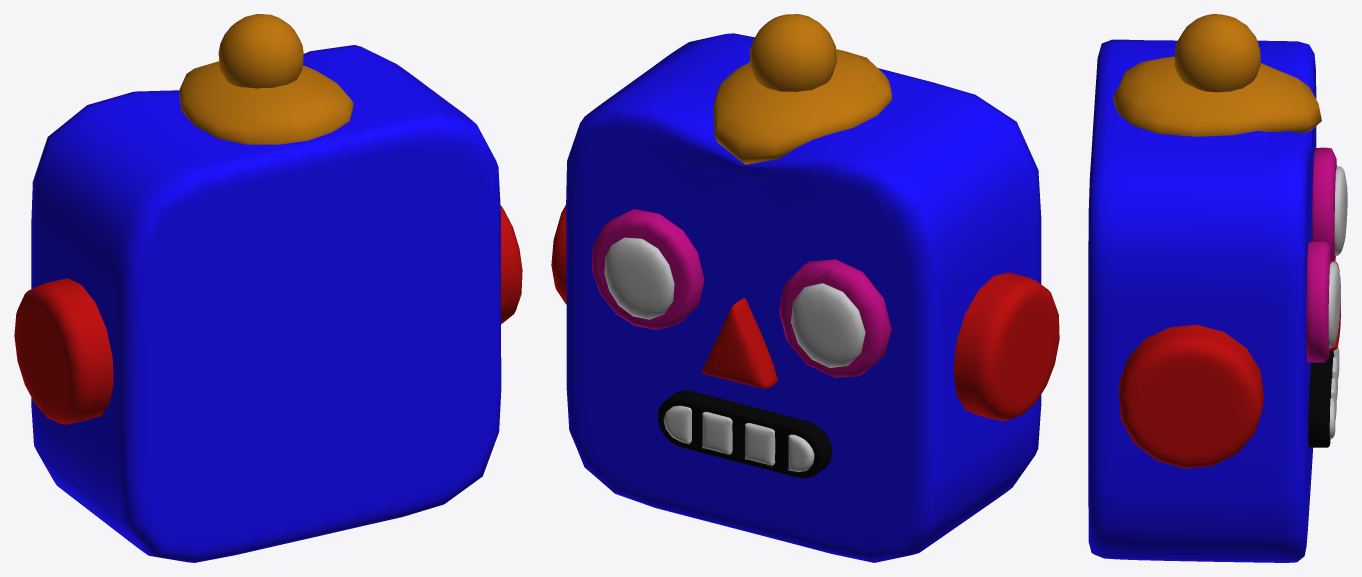
Rendered from robot FBX.FBX.
The picture shows the model from 3 angles, left to right: view 1: azimuth 30°, elevation 25°; view 2: azimuth 150°, elevation 25°; view 3: azimuth 270°, elevation 25°; orthographic projection.
Visible parts, largest first — view 1: R8, R4, R9, R7; view 2: R8, R4, R9, R6, R5, R2, R7, robot, R3; view 3: R8, R4, R9, R7, R6, R2, R5, robot.
Part boxes in pixels (x1,y1,x2,y2): R8: (31, 45, 501, 562); R4: (14, 205, 522, 424); R9: (179, 61, 353, 144); R7: (218, 14, 303, 88); R8: (566, 33, 1041, 562); R4: (551, 205, 1059, 420); R9: (713, 49, 891, 164); R6: (592, 209, 891, 377); R5: (604, 237, 865, 367); R2: (658, 390, 832, 478); R7: (749, 14, 836, 91); robot: (663, 405, 814, 471); R3: (702, 298, 777, 388); R8: (1088, 39, 1316, 562); R4: (1118, 324, 1263, 468); R9: (1113, 56, 1321, 136); R7: (1174, 14, 1260, 92); R6: (1306, 147, 1336, 362); R2: (1308, 350, 1333, 447); R5: (1328, 166, 1347, 348); robot: (1329, 347, 1339, 438).
Bounding box in the file's own units: 13.79 × 14.09 × 6.87.
